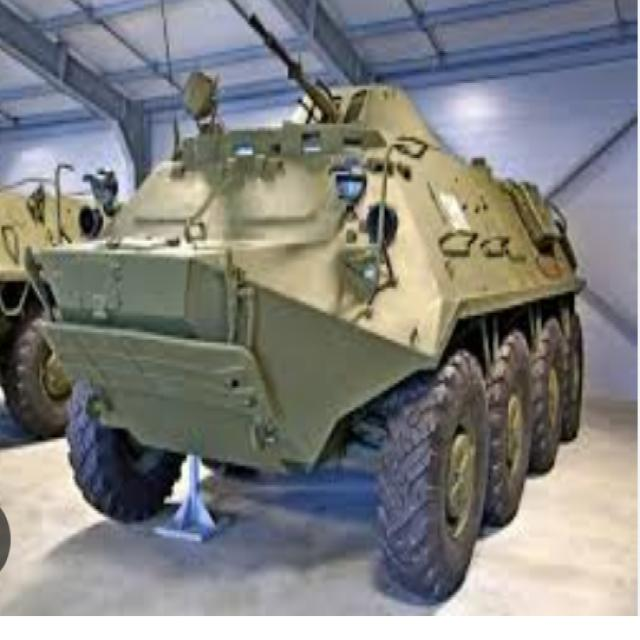MIL_APC: (29, 66, 583, 574)
